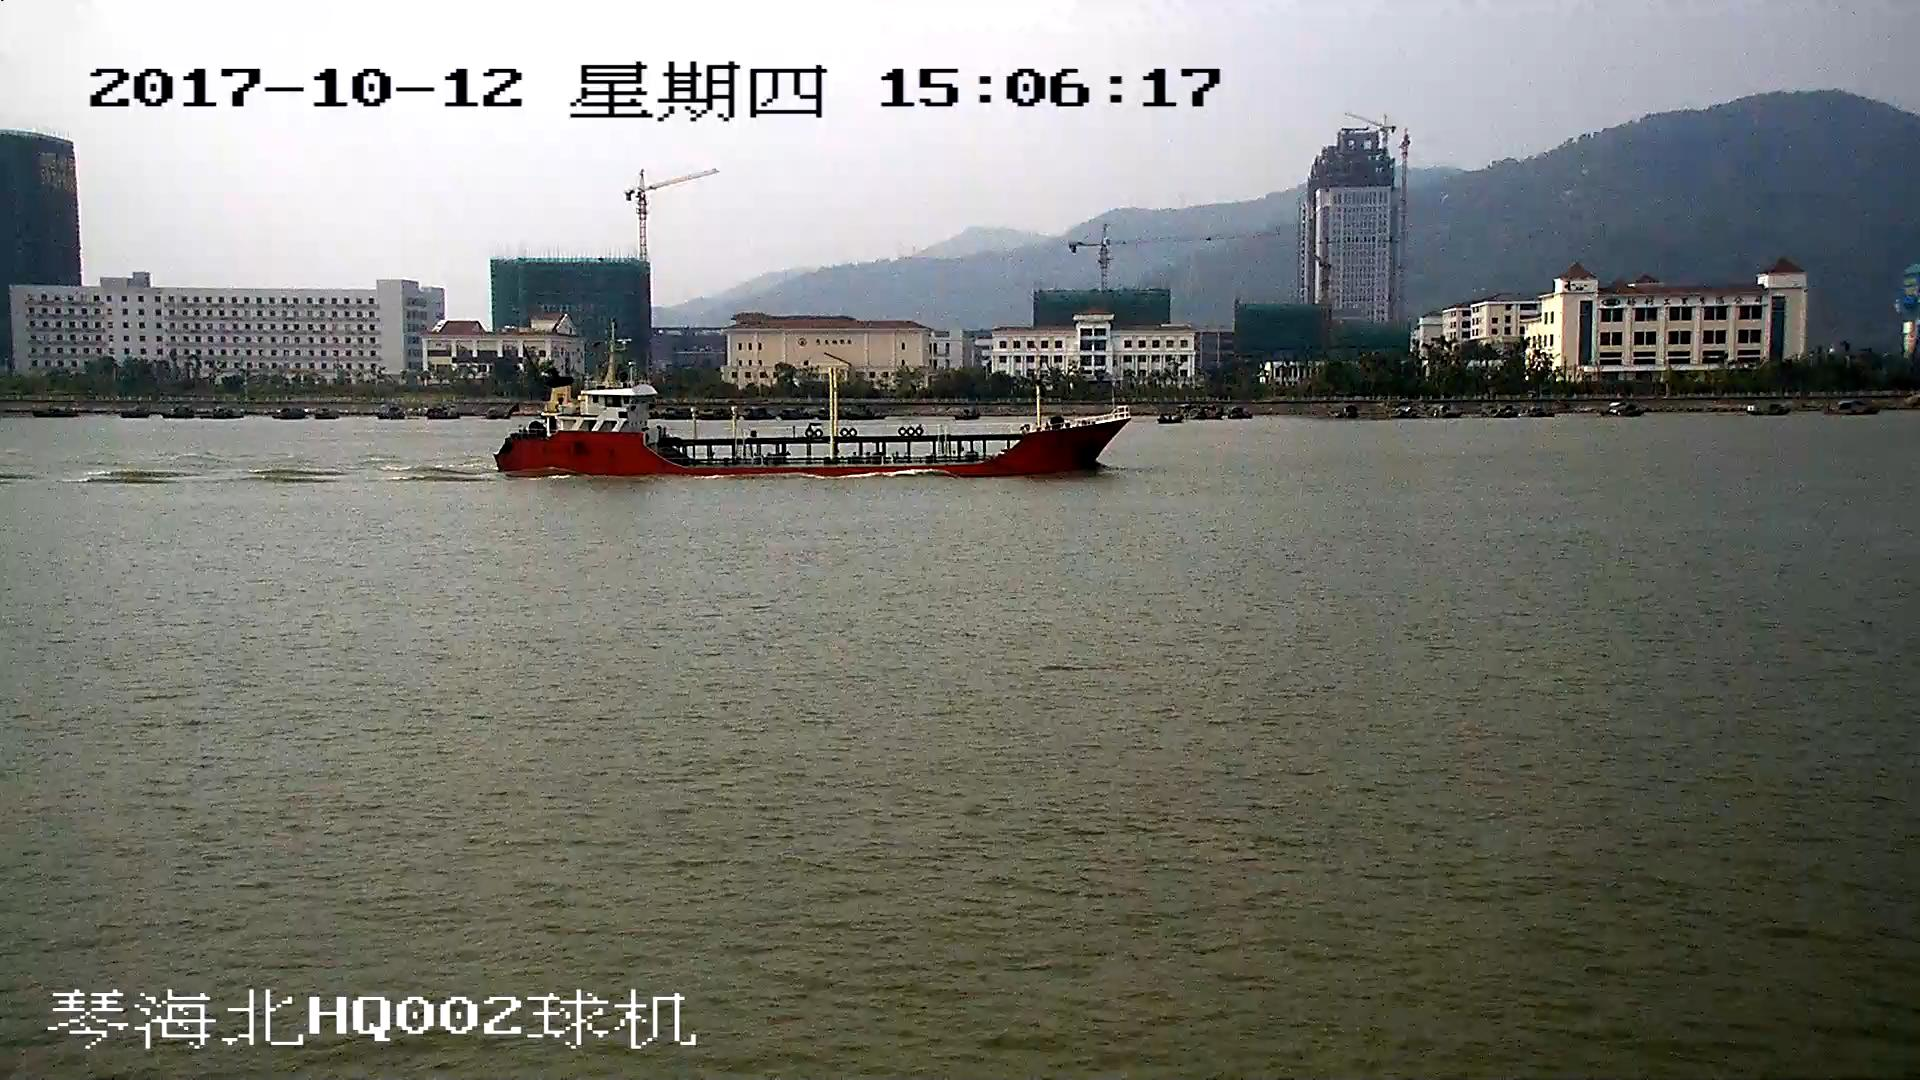general cargo ship: (500, 339, 1129, 476)
